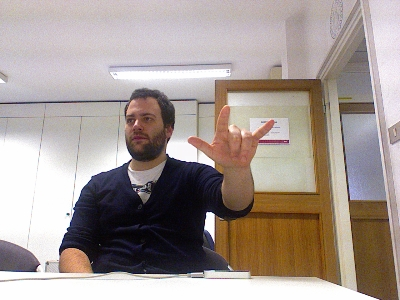我爱你: (185, 103, 275, 169)
